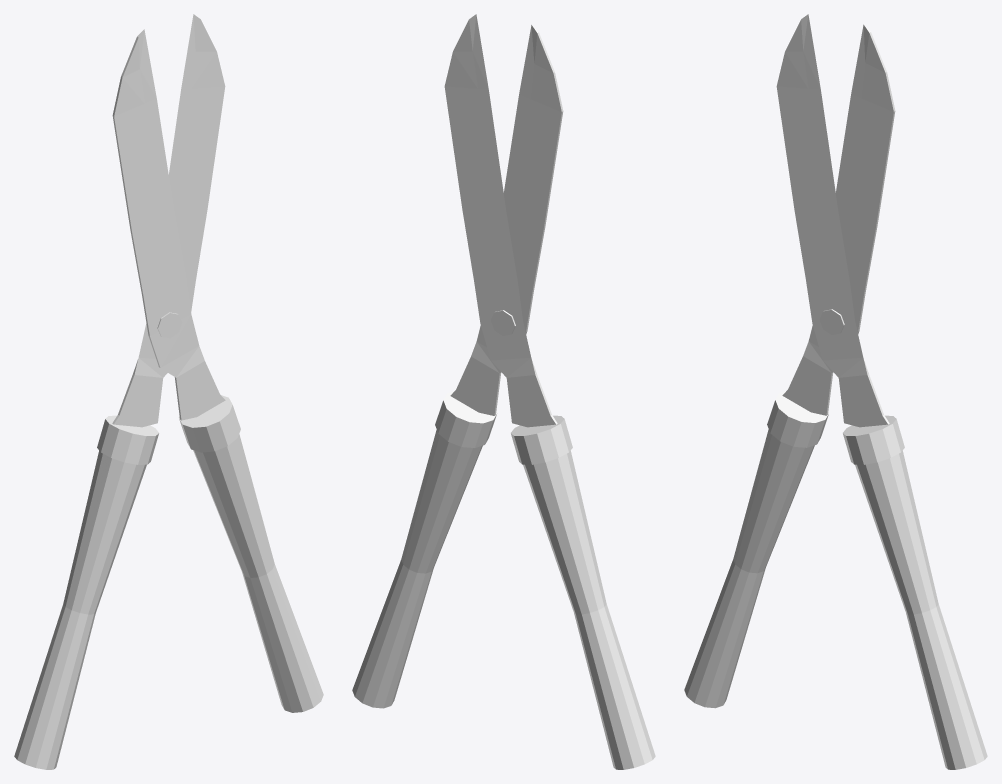
Rendered from Tool_Shear_01.glb.
3 views of the same model, side by side, from view 1: azimuth 30°, elevation 25°; view 2: azimuth 150°, elevation 25°; view 3: azimuth 330°, elevation 25° (orthographic).
Parts seen in each view (by area): view 1: Tool_Shear_Right_01, Tool_Shear_Left_01; view 2: Tool_Shear_Left_01, Tool_Shear_Right_01; view 3: Tool_Shear_Right_01, Tool_Shear_Left_01.
Part boxes in pixels (x1=…): Tool_Shear_Right_01: x1=112, y1=29, x2=323, y2=712; Tool_Shear_Left_01: x1=14, y1=14, x2=225, y2=769; Tool_Shear_Left_01: x1=444, y1=14, x2=655, y2=769; Tool_Shear_Right_01: x1=352, y1=25, x2=563, y2=708; Tool_Shear_Right_01: x1=776, y1=14, x2=987, y2=769; Tool_Shear_Left_01: x1=684, y1=24, x2=895, y2=708.
Bounding box in the file's own units: 0.2288 × 0.5208 × 0.041.
1 material, 1 textured.
